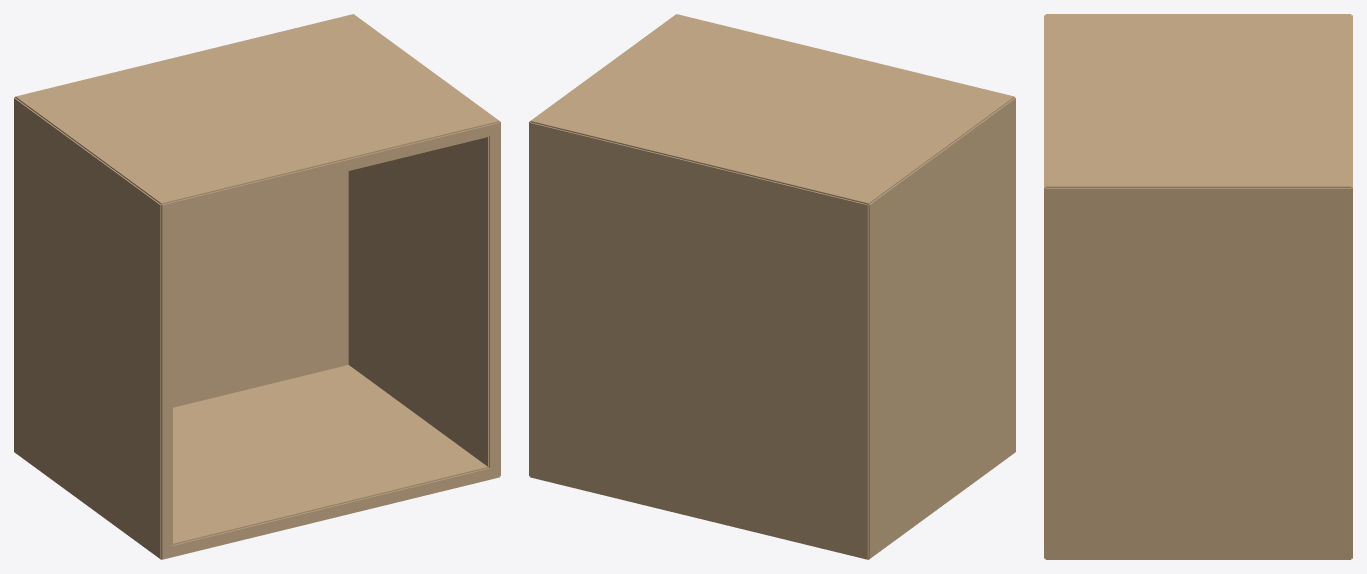
3 renders of one model, left to right at view 1: azimuth 30°, elevation 25°; view 2: azimuth 150°, elevation 25°; view 3: azimuth 270°, elevation 25°, orthographic. The views are drawn at different scales.
Parts seen in each view (by area): view 1: aobo-cabinet-and-wardrobe; view 2: aobo-cabinet-and-wardrobe; view 3: aobo-cabinet-and-wardrobe.
Boxes of the visible parts, x1,y1,x2,y2 form: aobo-cabinet-and-wardrobe: [14, 14, 500, 559]; aobo-cabinet-and-wardrobe: [529, 14, 1015, 559]; aobo-cabinet-and-wardrobe: [1044, 14, 1352, 559].
Size of the model in its own units: 0.4 by 0.4 by 0.3.
